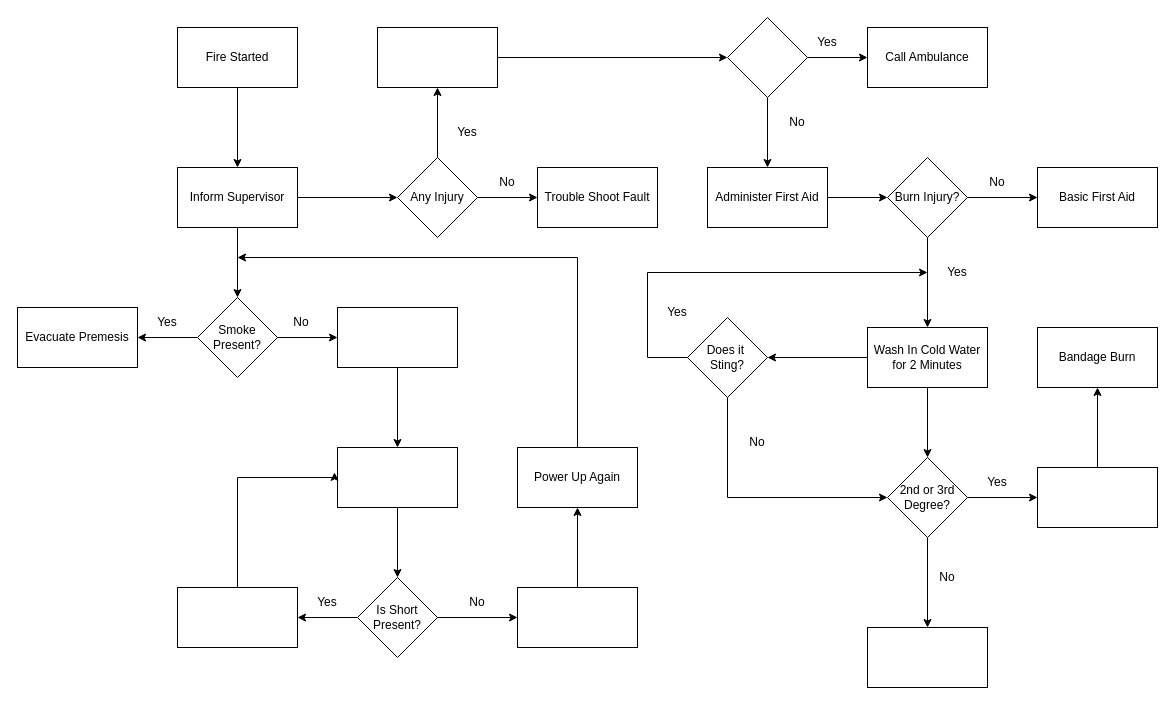
This 1175x705 diagram has some shape labels left out. Each missing label, with the centre of its shape:
"Check for Loose Connections" goes at point (577, 617).
"Clean and Wash" goes at point (927, 657).
"Dress Burn" goes at point (1097, 497).
"Get First Aid Kit" goes at point (437, 57).
"Major Injury" goes at point (767, 57).
"Unplug Power" goes at point (397, 337).
"Unplug Shorted Connections" goes at point (237, 617).
"Wait 5 Minutes to Cool Down" goes at point (397, 477).
